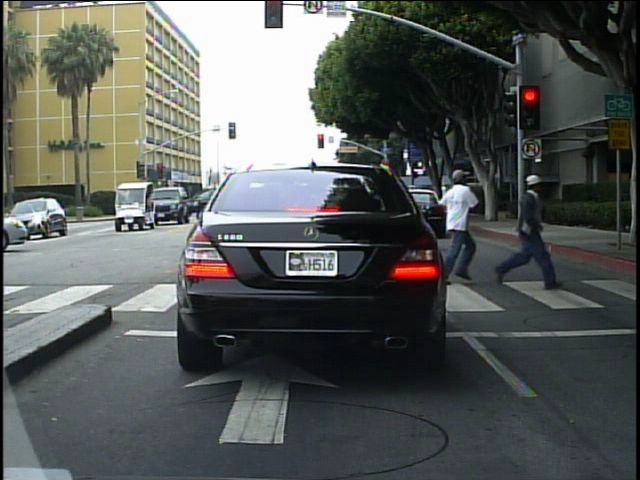person: (426, 164, 477, 286), (498, 169, 545, 297), (438, 179, 452, 209)
